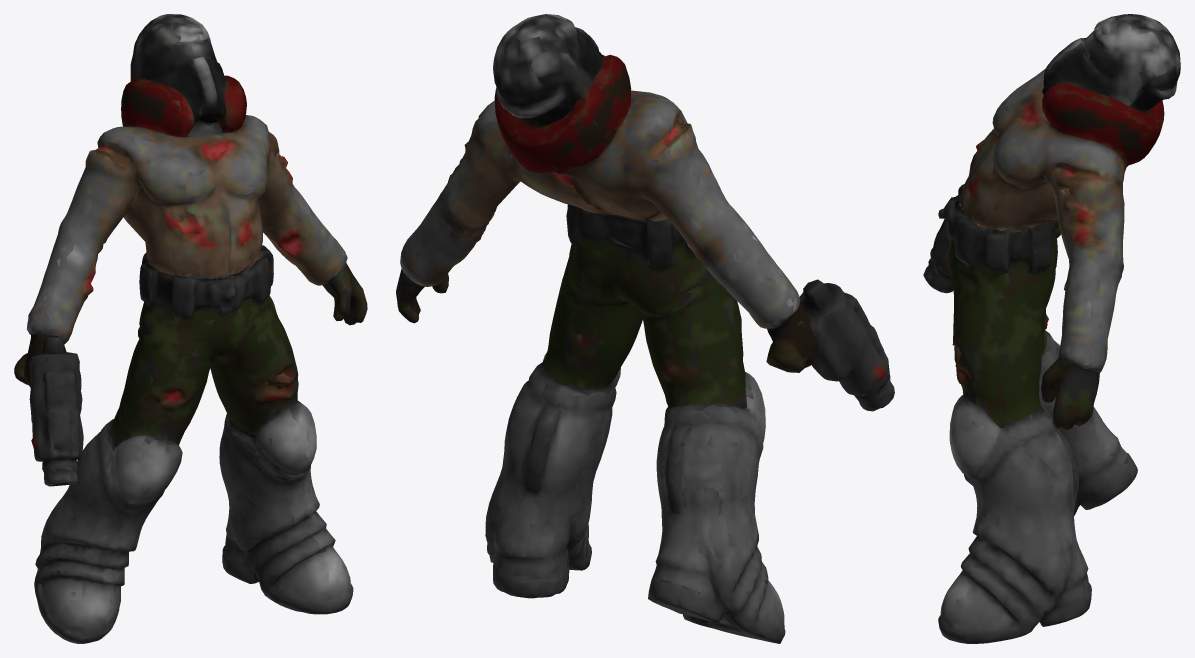
Rendered from POSSG1.obj.
3 renders of one model, left to right at view 1: azimuth 30°, elevation 25°; view 2: azimuth 150°, elevation 25°; view 3: azimuth 270°, elevation 25°, orthographic. The views are drawn at different scales.
Bounding box in the file's own units: 0.7224 × 1 × 0.4013.
Materials: 1 (1 with a texture image).
